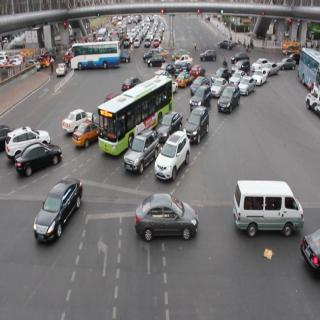BigCar: (92, 69, 177, 156), (69, 36, 122, 74)
Car: (232, 179, 307, 239), (32, 165, 83, 244), (134, 194, 205, 248), (14, 142, 65, 181), (155, 130, 192, 181), (2, 128, 55, 156), (123, 126, 156, 170), (186, 102, 210, 146), (70, 115, 100, 149), (188, 84, 214, 118), (154, 107, 179, 142), (218, 83, 239, 114), (62, 110, 99, 126), (189, 70, 210, 92), (145, 51, 166, 73), (240, 74, 258, 98), (207, 75, 228, 94), (171, 51, 195, 67), (186, 64, 204, 84), (54, 63, 70, 83), (199, 47, 219, 62), (175, 72, 190, 86), (142, 51, 158, 62), (153, 36, 161, 52), (132, 38, 141, 52), (144, 36, 152, 49)
